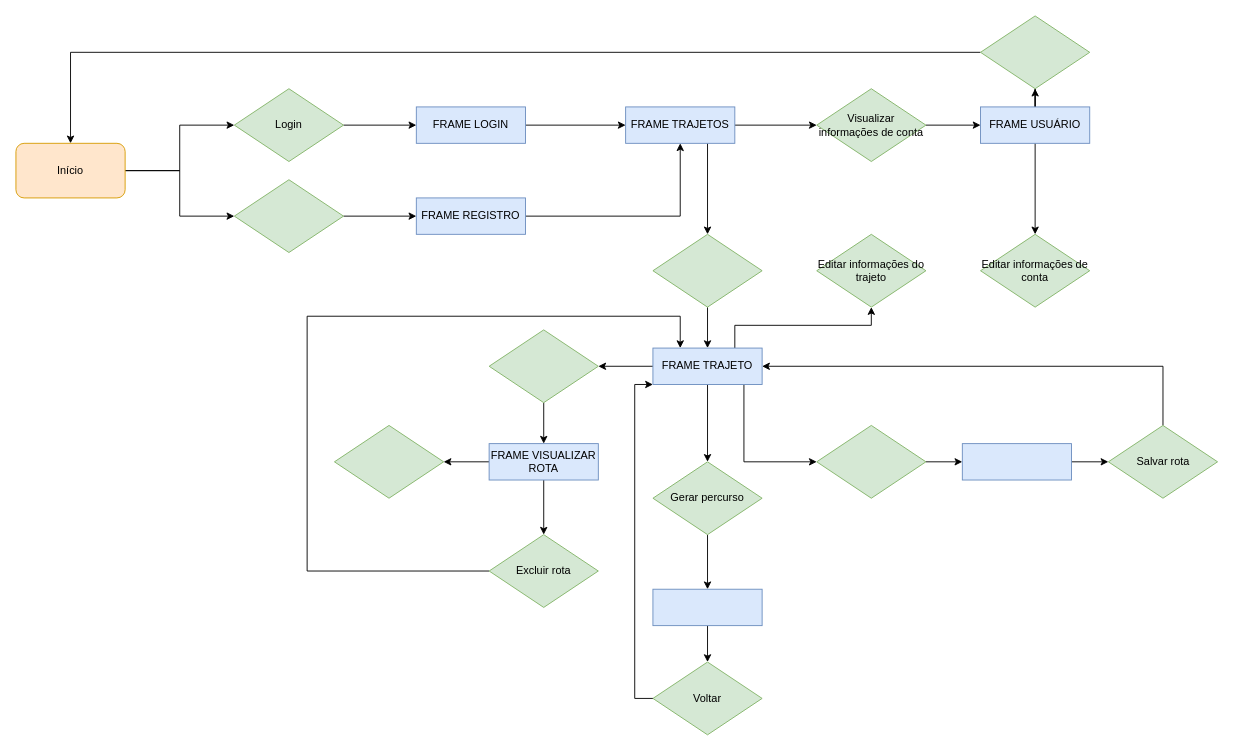
Image size: 1234x751. Some labels were removed from this diagram. Each missing label, with the box of its shape:
Criar nova rota: (816, 425, 926, 498)
Criar novo trajeto: (652, 233, 762, 307)
Editar Rota: (334, 425, 444, 498)
Excluir conta: (980, 15, 1090, 89)
FRAME ADICIONAR ROTA: (961, 443, 1072, 480)
FRAME PERCURSO: (652, 588, 762, 626)
Registrar: (233, 179, 344, 253)
Visualizar informações de rota: (488, 329, 598, 403)
